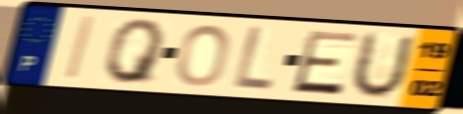E: (288, 28, 362, 98)
I: (62, 14, 99, 83)
L: (230, 24, 276, 94)
O: (174, 22, 233, 89)
Q: (104, 17, 169, 86)
U: (346, 29, 418, 101)
